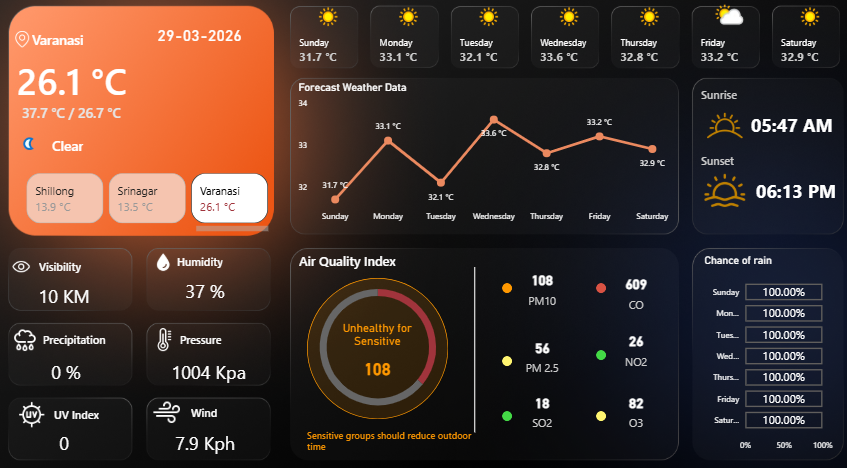

The dashboard page shown, as its layout file describes it:
{"tool":"powerbi","page":{"name":"Page 1","canvas":[1280,720],"ordinal":0},"visuals":[{"type":"shape","box":[464.2,422.4,207.5,207.5],"z":0},{"type":"donutChart","fields":{"Y":["Sum(Current.current.air_quality.pm10)","_Measures.left_val_pm10"]},"box":[438.8,411.9,258.2,223.9],"z":1000},{"type":"advancedSlicerVisual","fields":{"Values":["locations.location.name"]},"box":[46.3,262.7,367.2,97],"z":2000},{"type":"shape","box":[38.8,88.1,216.4,82.1],"z":3000},{"type":"shape","box":[89.6,203,250.7,47.8],"z":4000},{"type":"shape","box":[60.2,52.9,160.2,35.3],"z":5000},{"type":"image","box":[30.9,58.8,29.4,23.5],"z":6000},{"type":"cardVisual","fields":{"Data":["Min(Current.current.condition.icon)"]},"box":[10.4,171.6,329.9,91],"z":7000},{"type":"image","box":[29.9,385.1,29.9,40.3],"z":8000},{"type":"image","box":[238.8,385.1,26.9,26.9],"z":9000},{"type":"shape","box":[273.1,377.6,86.6,40.3],"z":10000},{"type":"shape","box":[92.5,603,68.7,40.3],"z":11000},{"type":"shape","box":[277.6,489.6,76.1,46.3],"z":12000},{"type":"shape","box":[76.1,494,100,37.3],"z":13000},{"type":"shape","box":[294,600,68.7,40.3],"z":14000},{"type":"image","box":[29.9,494,40.3,38.8],"z":15000},{"type":"image","box":[228.4,495.5,53.7,34.3],"z":16000},{"type":"image","box":[235.8,598.5,46.3,41.8],"z":17000},{"type":"image","box":[34.3,603,52.2,40.3],"z":18000},{"type":"card","fields":{"Values":["_Measures.Humidity_curr"]},"box":[255.2,417.9,117.9,47.8],"z":19000},{"type":"card","fields":{"Values":["_Measures.wind_speed"]},"box":[255.2,640.3,117.9,47.8],"z":20000},{"type":"card","fields":{"Values":["_Measures.Pressure_curr"]},"box":[255.2,535.8,128.4,47.8],"z":21000},{"type":"card","fields":{"Values":["_Measures.visibility_curr"]},"box":[47.8,425.4,117.9,47.8],"z":22000},{"type":"card","fields":{"Values":["_Measures.preceptation_curr"]},"box":[50.7,535.8,117.9,47.8],"z":23000},{"type":"card","fields":{"Values":["Sum(Current.current.uv)"]},"box":[47.8,640.3,117.9,47.8],"z":24000},{"type":"cardVisual","fields":{"Data":["Min(Current.current.last_updated)"]},"box":[228.4,31.3,176.1,65.7],"z":25000},{"type":"advancedSlicerVisual","fields":{"Values":["Forecast_day.Day_Name"]},"box":[434.3,7.5,831.3,113.4],"z":26000},{"type":"lineChart","title":"Forecast Weather Data","fields":{"Category":["Forecast_day.Day_Name"],"Y":["Sum(Forecast_day.forecast.forecastday.day.avgtemp_c)"]},"box":[446.3,132.8,561.2,216.4],"z":27000},{"type":"shape","box":[1043.3,132.8,161.2,40.3],"z":28000},{"type":"shape","box":[1116.4,164.2,149.3,62.7],"z":29000},{"type":"shape","box":[1123.9,262.7,129.9,59.7],"z":30000},{"type":"shape","box":[1043.3,229.9,161.2,40.3],"z":31000},{"type":"image","box":[1043.3,161.2,70.1,71.6],"z":32000},{"type":"image","box":[1043.3,262.7,70.1,59.7],"z":33000},{"type":"hundredPercentStackedBarChart","title":"Chance of rain ","fields":{"Category":["Forecast_day.Day_Name"],"Y":["Sum(Forecast_day.forecast.forecastday.day.daily_chance_of_rain)","Current.left_value_rain"]},"box":[1043.3,386.6,198.5,298.5],"z":34000},{"type":"card","fields":{"Values":["Sum(Current.current.air_quality.co)"]},"box":[889.6,411.9,117.9,61.2],"z":35000},{"type":"card","fields":{"Values":["Sum(Current.current.air_quality.no2)"]},"box":[889.6,494,117.9,64.2],"z":36000},{"type":"card","fields":{"Values":["Sum(Current.current.air_quality.o3)"]},"box":[889.6,583.6,117.9,65.7],"z":37000},{"type":"card","fields":{"Values":["Sum(Current.current.air_quality.so2)"]},"box":[750.7,585.1,117.9,62.7],"z":38000},{"type":"card","fields":{"Values":["Sum(Current.current.air_quality.pm2_5)"]},"box":[750.7,506,117.9,59.7],"z":39000},{"type":"card","fields":{"Values":["Sum(Current.current.air_quality.pm10)"]},"box":[750.7,397,117.9,77.6],"z":40000},{"type":"shape","box":[70.1,385.1,68.7,40.3],"z":41000},{"type":"shape","box":[452.2,373.1,194,46.3],"z":42000},{"type":"shape","box":[750.7,428.4,14.9,14.9],"z":43000},{"type":"shape","box":[750.7,535.8,14.9,14.9],"z":44000},{"type":"shape","box":[750.7,616.4,14.9,14.9],"z":45000},{"type":"shape","box":[889.6,428.4,14.9,14.9],"z":46000},{"type":"shape","box":[889.6,526.9,14.9,14.9],"z":47000},{"type":"shape","box":[889.6,616.4,14.9,14.9],"z":48000},{"type":"shape","box":[695.5,406,31.3,243.3],"z":49000},{"type":"card","fields":{"Values":["Sum(Current.current.air_quality.pm10)"]},"box":[495.5,485.1,144.8,101.5],"z":50000},{"type":"shape","box":[464.2,640.3,259.7,40.3],"z":50001},{"type":"shape","box":[46.3,159.7,177.6,35.8],"z":50002}]}

Visuals, with their boxes in screenshot pixels (x1, y1, x2, y2), scaled from the page's 1280x720 canvas onto the 847x468 screenshot:
shape: BBox(307, 275, 444, 409)
donutChart - Sum(Current.current.air_quality.pm10) x _Measures.left_val_pm10: BBox(290, 268, 461, 413)
advancedSlicerVisual - locations.location.name: BBox(31, 171, 274, 234)
shape: BBox(26, 57, 169, 111)
shape: BBox(59, 132, 225, 163)
shape: BBox(40, 34, 146, 57)
image: BBox(20, 38, 40, 53)
cardVisual - Min(Current.current.condition.icon): BBox(7, 112, 225, 171)
image: BBox(20, 250, 40, 277)
image: BBox(158, 250, 176, 268)
shape: BBox(181, 245, 238, 272)
shape: BBox(61, 392, 107, 418)
shape: BBox(184, 318, 234, 348)
shape: BBox(50, 321, 117, 345)
shape: BBox(195, 390, 240, 416)
image: BBox(20, 321, 46, 346)
image: BBox(151, 322, 187, 344)
image: BBox(156, 389, 187, 416)
image: BBox(23, 392, 57, 418)
card - _Measures.Humidity_curr: BBox(169, 272, 247, 303)
card - _Measures.wind_speed: BBox(169, 416, 247, 447)
card - _Measures.Pressure_curr: BBox(169, 348, 254, 379)
card - _Measures.visibility_curr: BBox(32, 277, 110, 308)
card - _Measures.preceptation_curr: BBox(34, 348, 112, 379)
card - Sum(Current.current.uv): BBox(32, 416, 110, 447)
cardVisual - Min(Current.current.last_updated): BBox(151, 20, 268, 63)
advancedSlicerVisual - Forecast_day.Day_Name: BBox(287, 5, 837, 79)
"Forecast Weather Data" lineChart: BBox(295, 86, 667, 227)
shape: BBox(690, 86, 797, 113)
shape: BBox(739, 107, 838, 147)
shape: BBox(744, 171, 830, 210)
shape: BBox(690, 149, 797, 176)
image: BBox(690, 105, 737, 151)
image: BBox(690, 171, 737, 210)
"Chance of rain " hundredPercentStackedBarChart: BBox(690, 251, 822, 445)
card - Sum(Current.current.air_quality.co): BBox(589, 268, 667, 308)
card - Sum(Current.current.air_quality.no2): BBox(589, 321, 667, 363)
card - Sum(Current.current.air_quality.o3): BBox(589, 379, 667, 422)
card - Sum(Current.current.air_quality.so2): BBox(497, 380, 575, 421)
card - Sum(Current.current.air_quality.pm2_5): BBox(497, 329, 575, 368)
card - Sum(Current.current.air_quality.pm10): BBox(497, 258, 575, 308)
shape: BBox(46, 250, 92, 277)
shape: BBox(299, 243, 428, 273)
shape: BBox(497, 278, 507, 288)
shape: BBox(497, 348, 507, 358)
shape: BBox(497, 401, 507, 410)
shape: BBox(589, 278, 599, 288)
shape: BBox(589, 342, 599, 352)
shape: BBox(589, 401, 599, 410)
shape: BBox(460, 264, 481, 422)
card - Sum(Current.current.air_quality.pm10): BBox(328, 315, 424, 381)
shape: BBox(307, 416, 479, 442)
shape: BBox(31, 104, 148, 127)
